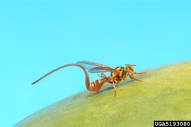Fruit fly: (26, 58, 150, 94)
